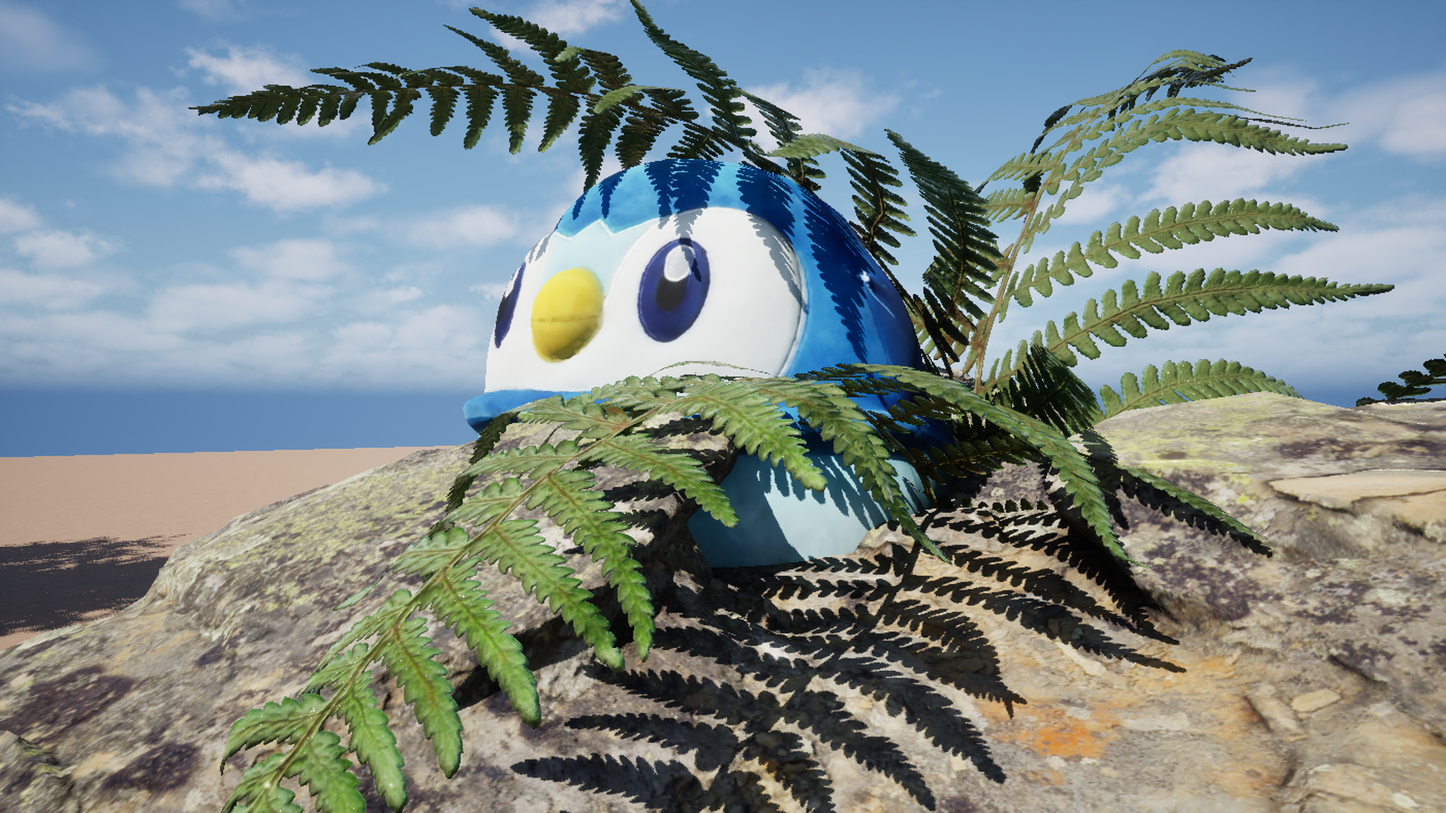Piplup: (383, 0, 1197, 813)
